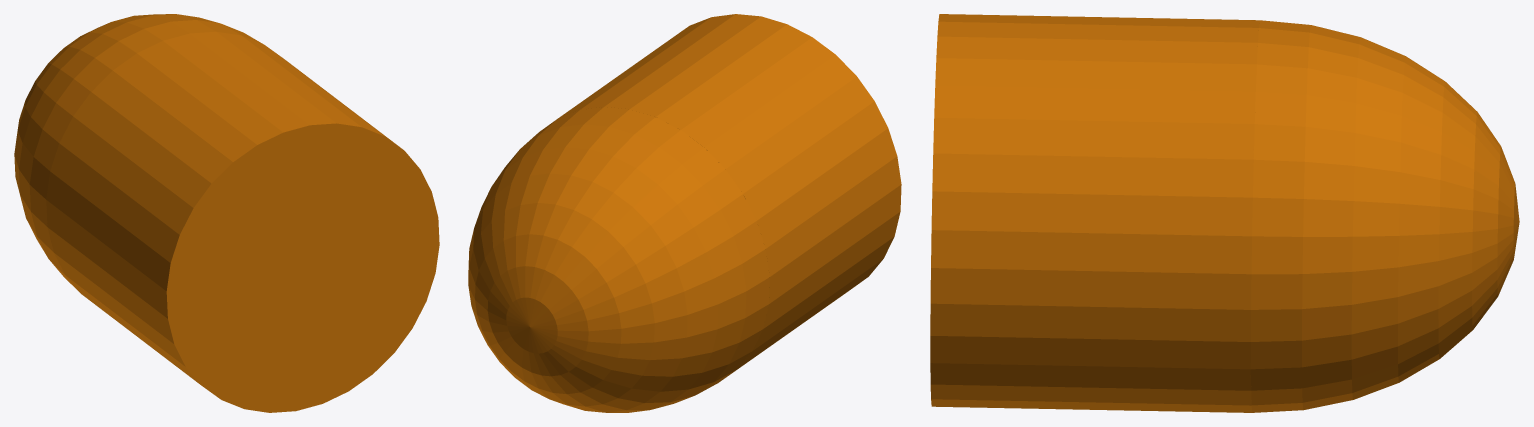
File: bullet_3.obj
3 views of the same model, side by side, from view 1: azimuth 30°, elevation 25°; view 2: azimuth 150°, elevation 25°; view 3: azimuth 270°, elevation 25° (orthographic). The views are drawn at different scales.
Visible parts, largest first — view 1: Bullet2; view 2: Bullet2; view 3: Bullet2.
Part boxes in pixels (x1,y1,x2,y2): Bullet2: (14,14,439,412); Bullet2: (468,14,901,412); Bullet2: (930,14,1519,412).
Size of the model in its own units: 0.022 by 0.0217 by 0.0322.
